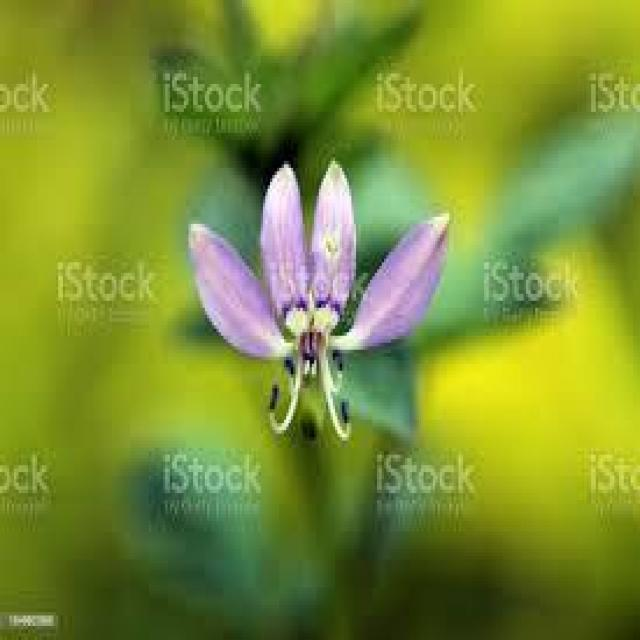organic waste: (184, 156, 447, 439)
